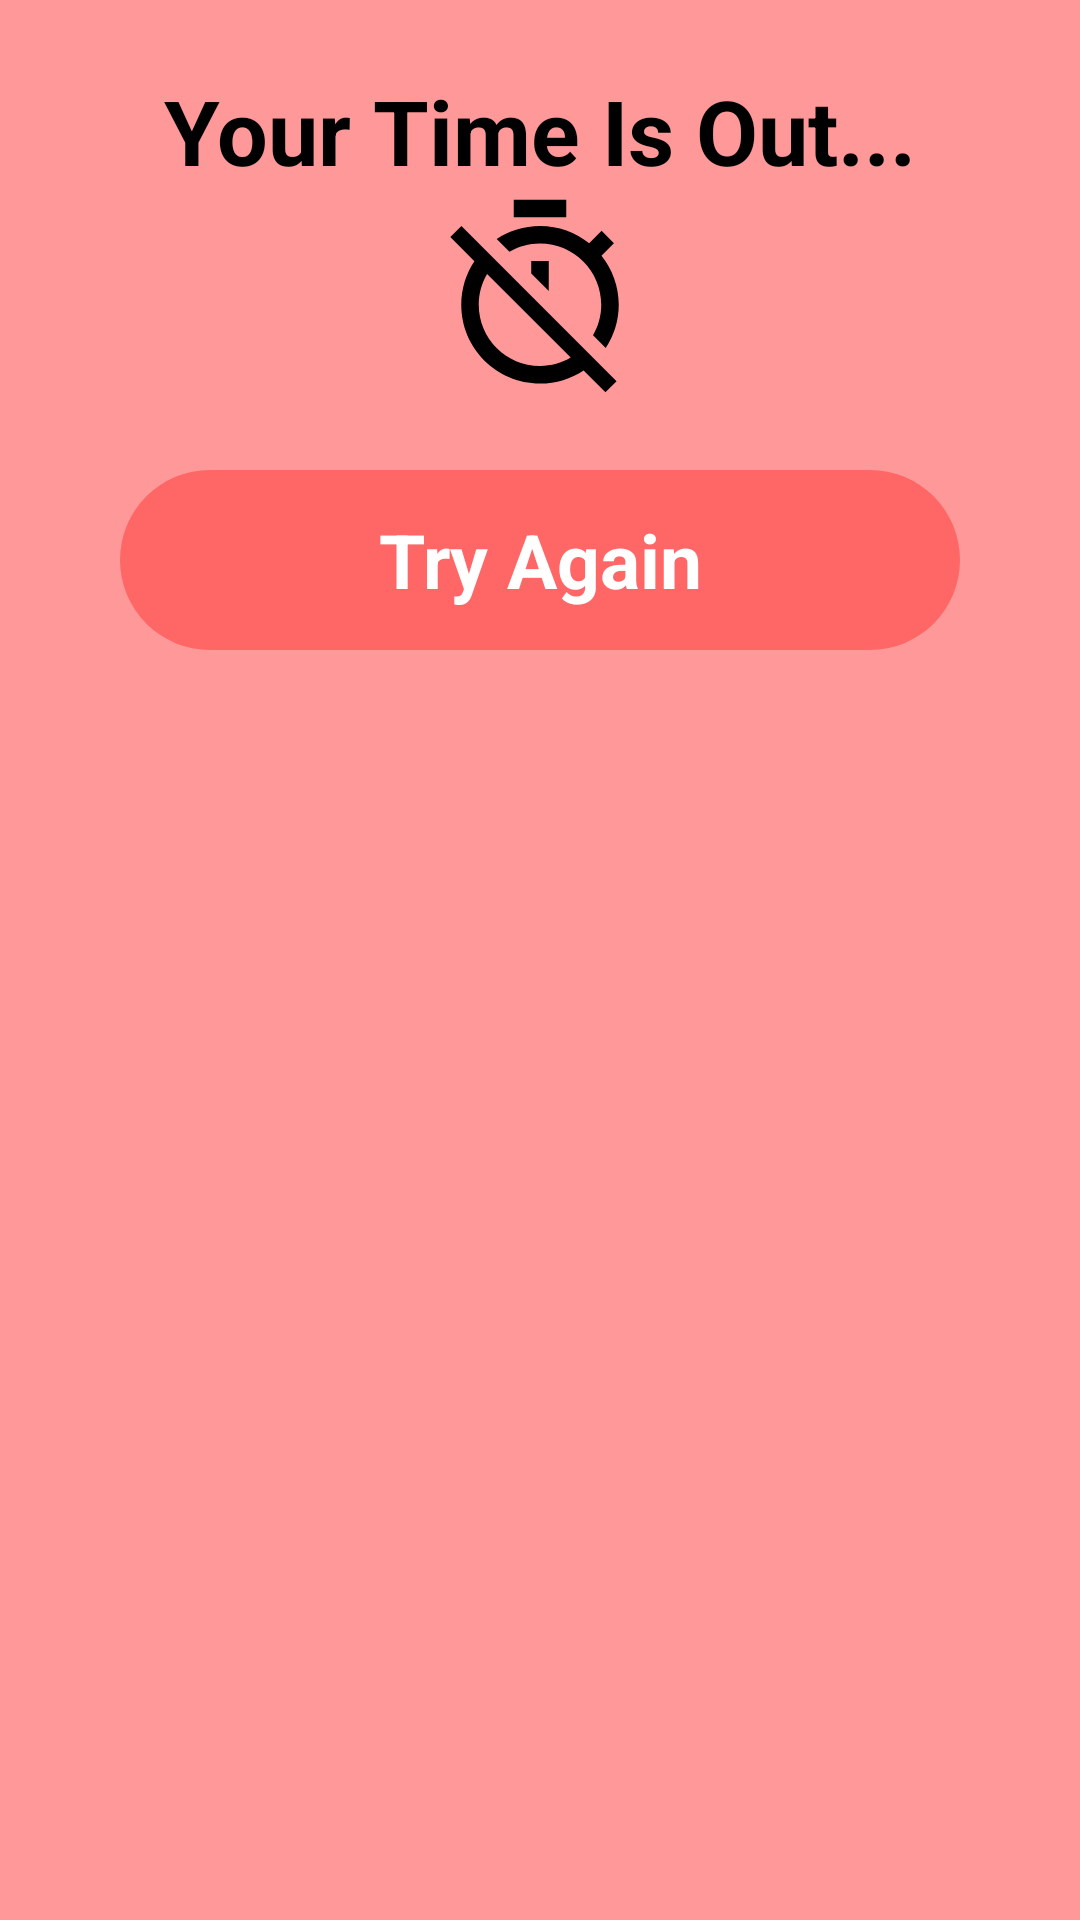

Where to tap for icons on this 1080*1920 app screen, as (x=x, y=y):
timer: (x=534, y=295)
